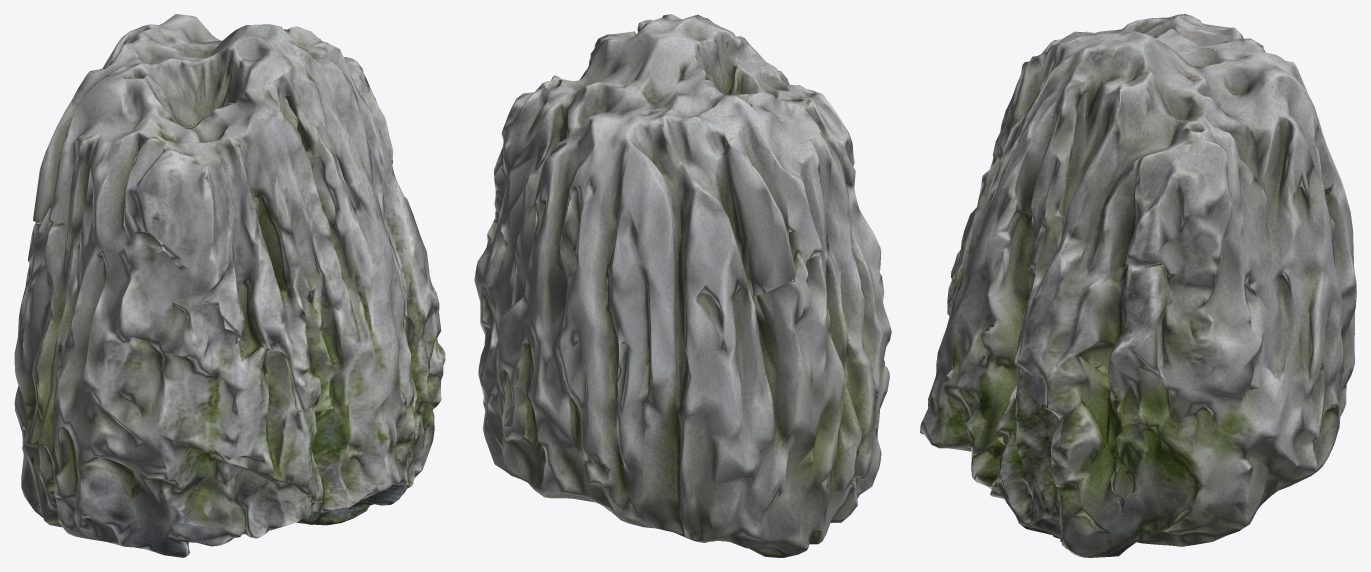
The model's file is karst.glb.
3 renders of one model, left to right at view 1: azimuth 30°, elevation 25°; view 2: azimuth 150°, elevation 25°; view 3: azimuth 270°, elevation 25°, orthographic. The views are drawn at different scales.
Parts seen in each view (by area): view 1: Mesh; view 2: Mesh; view 3: Mesh.
Part boxes in pixels (left/top/right/bottom): Mesh: left=14, top=14, right=445, bottom=557; Mesh: left=474, top=14, right=891, bottom=557; Mesh: left=920, top=14, right=1356, bottom=557.
Bounding box in the file's own units: 0.7946 × 1 × 0.8216.
Materials: 1 (1 with a texture image).
